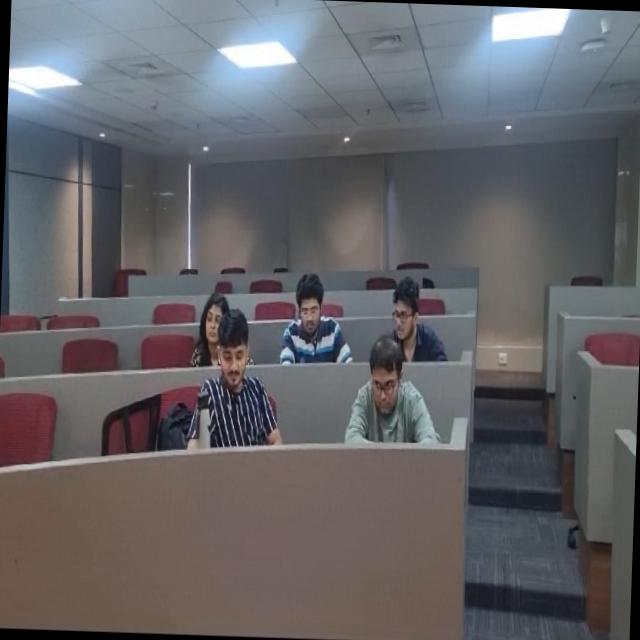cheating: (375, 270, 438, 351)
non-cheating: (194, 317, 276, 450), (346, 344, 438, 450), (276, 259, 354, 368), (186, 282, 234, 366)
